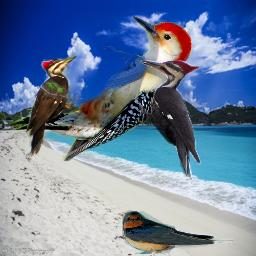Swallow: (120, 209, 233, 254)
Woodpecker: (10, 16, 192, 163), (139, 60, 201, 180), (25, 54, 80, 157)
